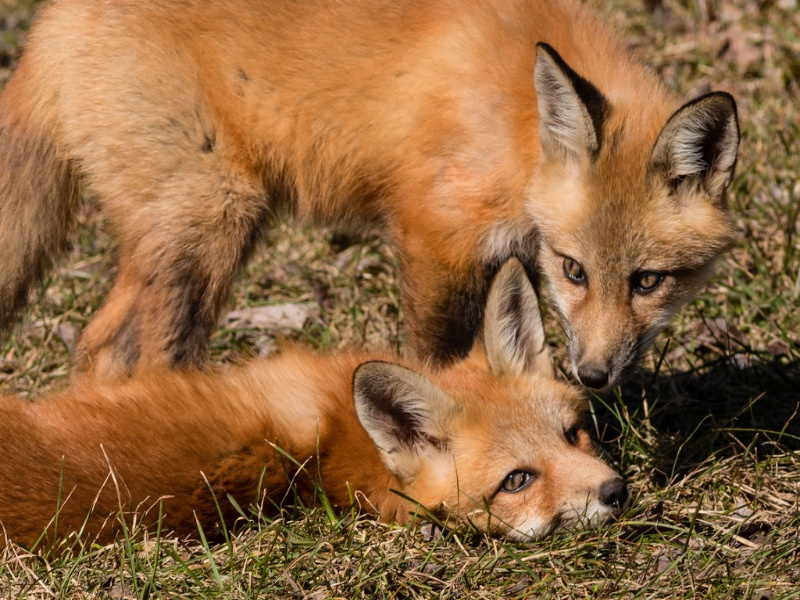fox: (1, 2, 752, 398), (1, 256, 625, 546)
